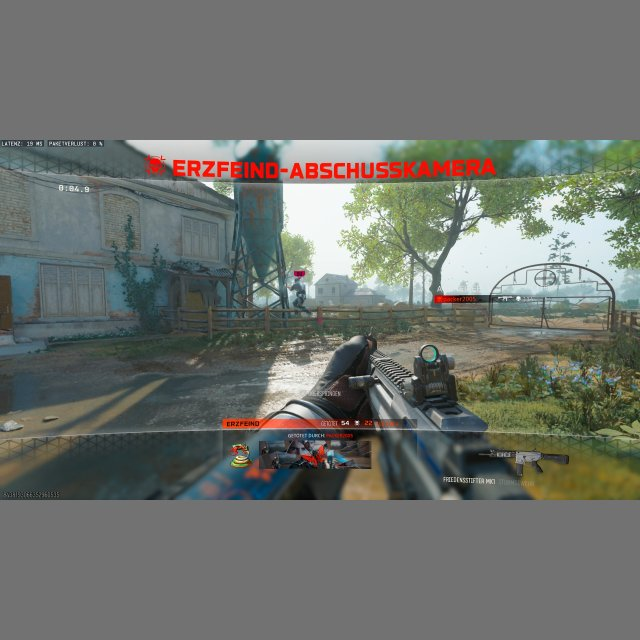player: (288, 278, 310, 313)
